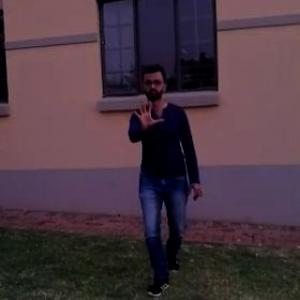follow_hand: (129, 93, 167, 137)
